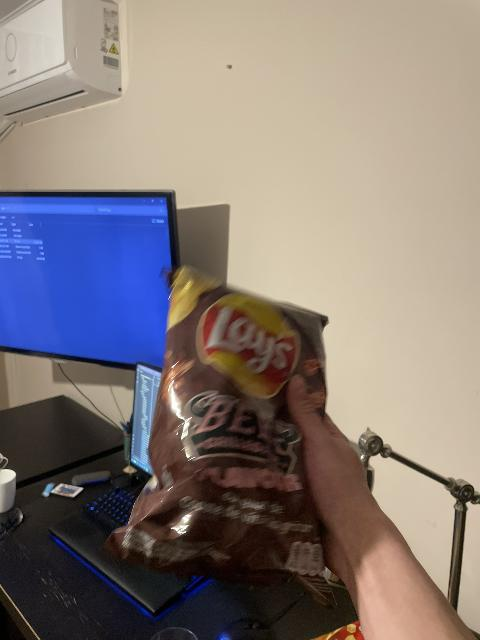Lays Beef Grilled Ribs 125g: (105, 266, 343, 600)
